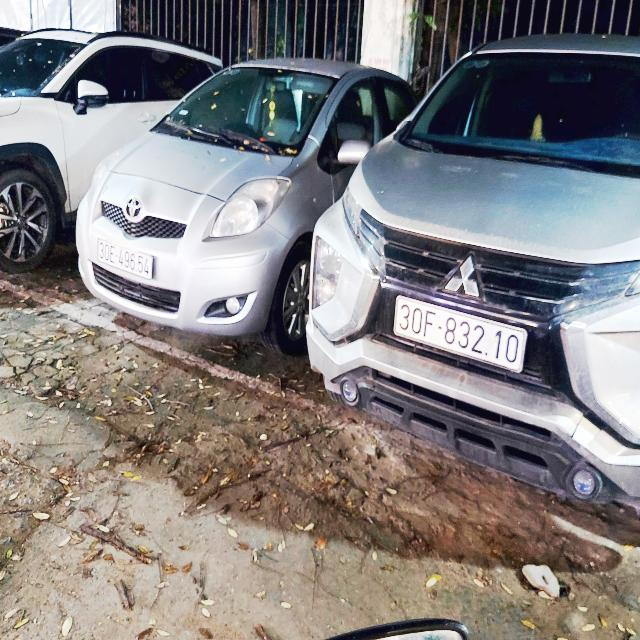license_plate: (391, 293, 532, 380), (97, 237, 156, 284)
